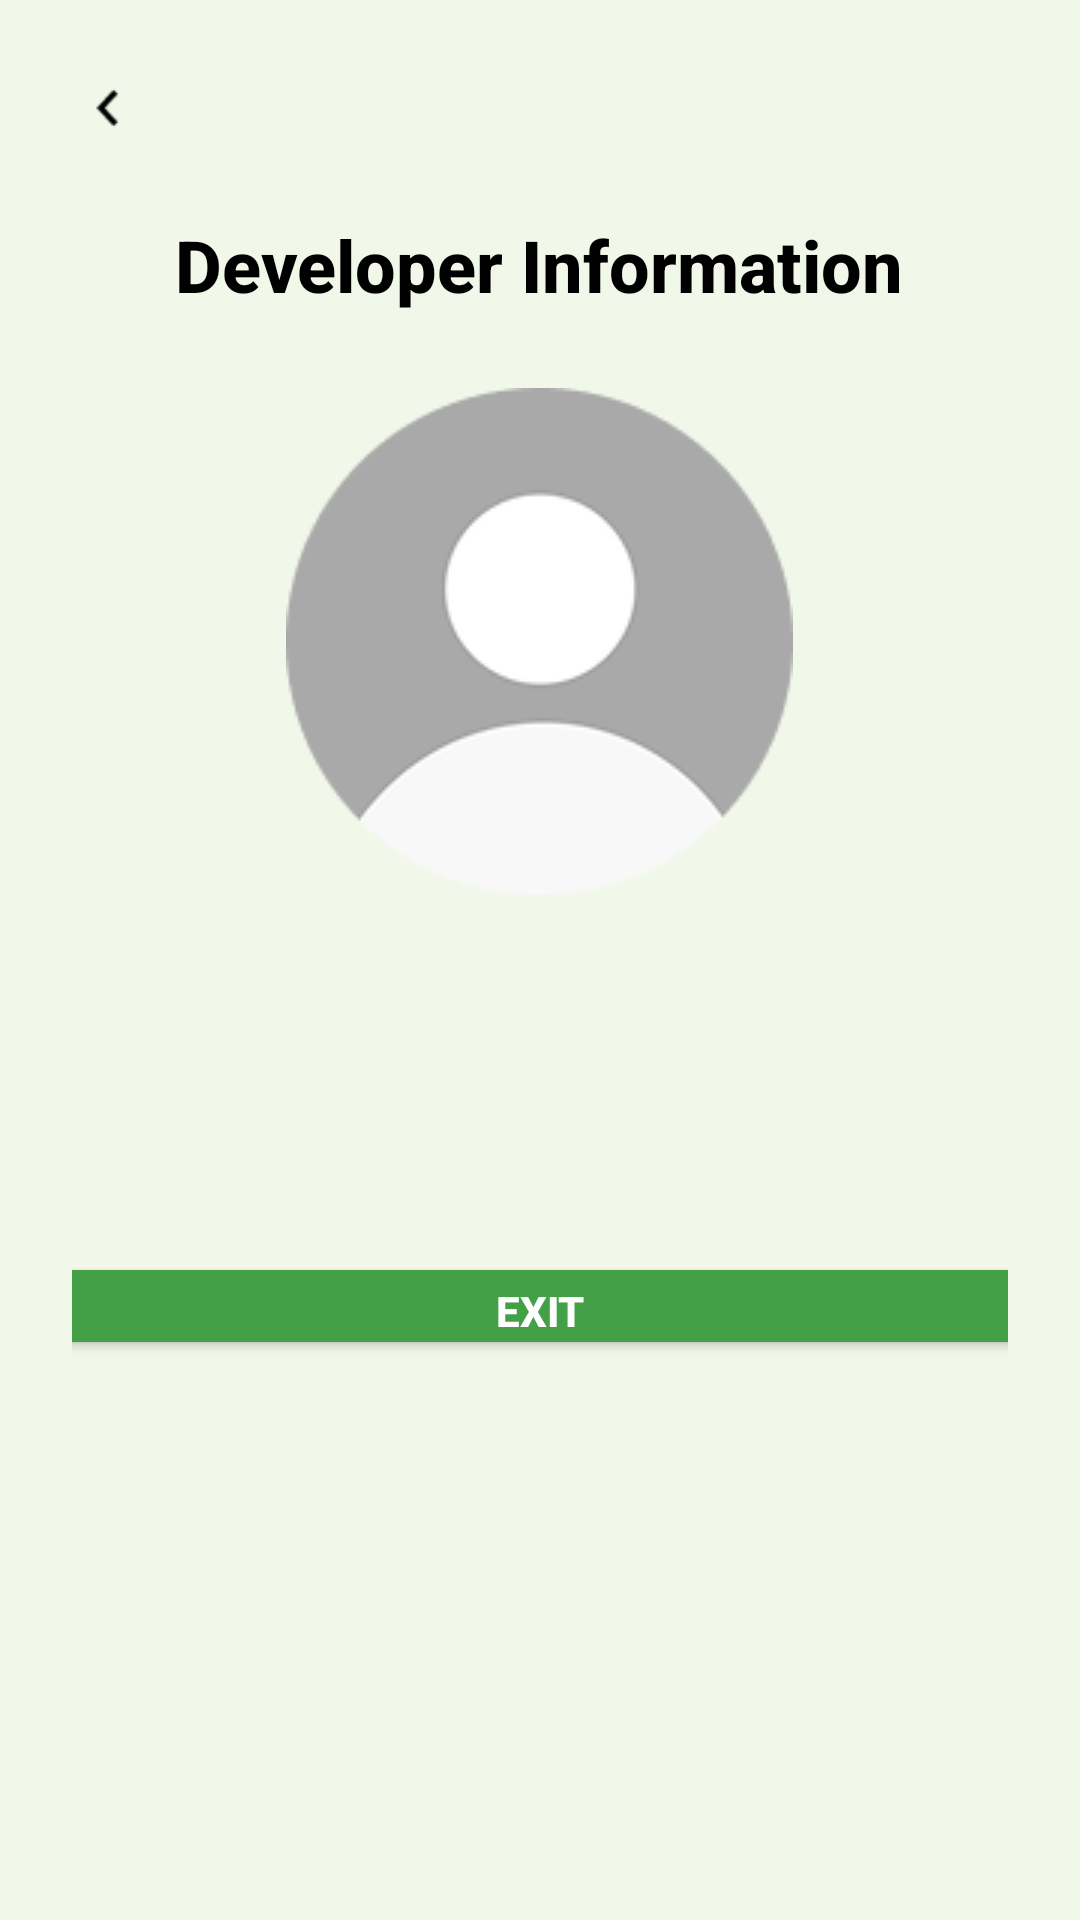

Icons on this 1080px x 1920px Android screen, each with its box as (x1, y1, x2, y2):
Back: (96, 90, 118, 126)
